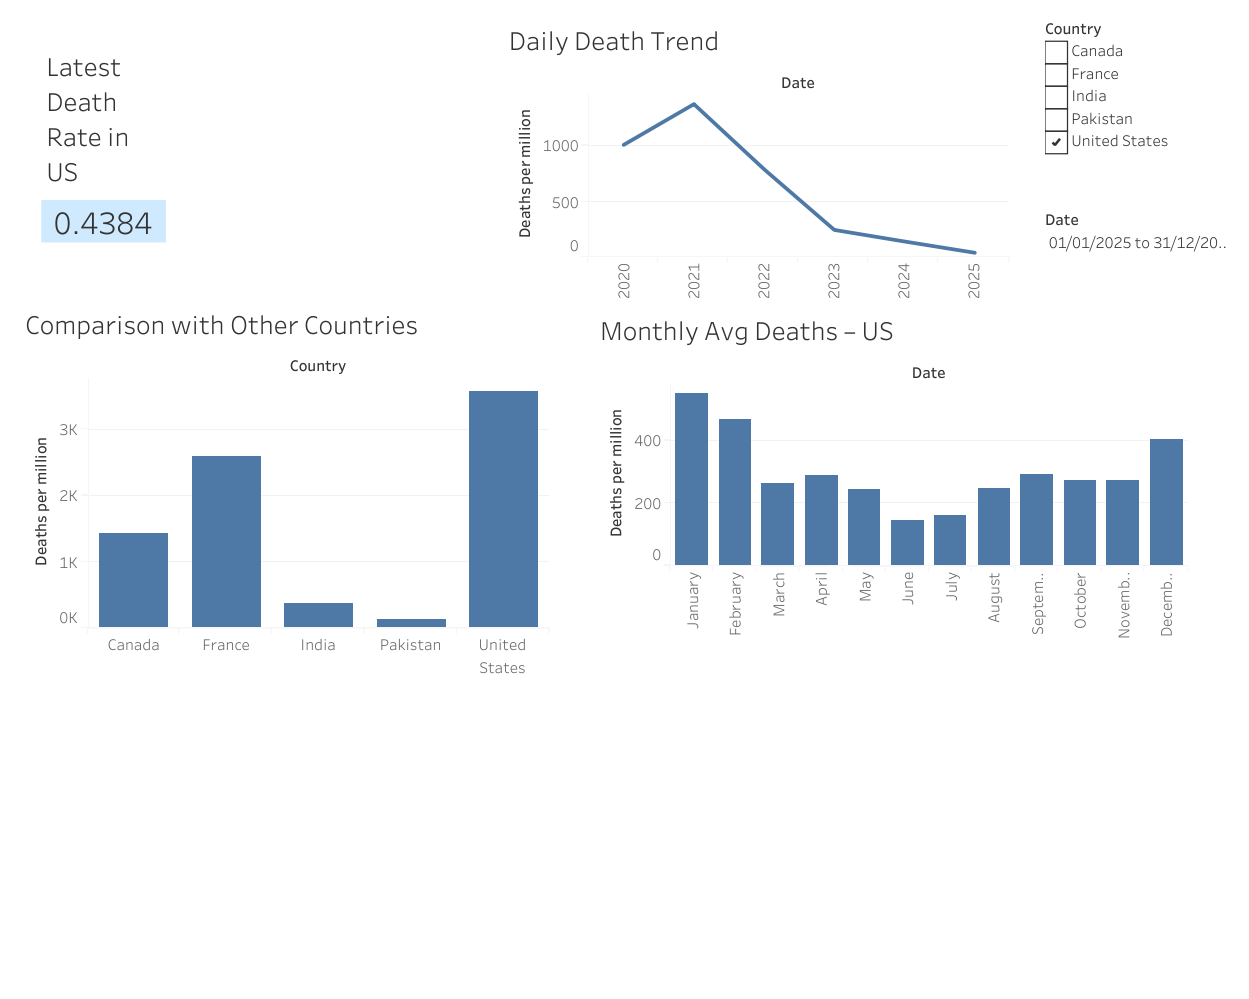

Layout of this report page (visuals, bound fields, positions):
{"tool":"tableau","page":{"name":"COVID-19 Death Trends in the US","canvas":[1000,800],"ordinal":0},"visuals":[{"type":"filter","title":"Latest Death Rate","param":"[federated.1b9xs8u1ol0w6518v92kk12w1o8e].[none:Country:nk]","box":[832,8,160,153]},{"type":"worksheet","title":"Daily Death Trend","mark":"Line","rows":["Deaths per million"],"cols":["Date"],"box":[403,12,404,233]},{"type":"worksheet","title":"Latest Death Rate","mark":"Text","box":[33,33,365,182]},{"type":"filter","title":"Latest Death Rate","param":"[federated.1b9xs8u1ol0w6518v92kk12w1o8e].[none:Date:qk]","box":[832,161,160,55]},{"type":"worksheet","title":"Comparison with Other Countries","mark":"Bar","rows":["Deaths per million"],"cols":["Country"],"box":[16,239,423,303]},{"type":"worksheet","title":"Monthly Avg Deaths – US","mark":"Bar","rows":["Deaths per million"],"cols":["Date"],"box":[476,244,474,268]}]}

Visuals, with their boxes in screenshot pixels (x1, y1, x2, y2), scaled from the page's 1000x800 canvas onto the 1249x999 screenshot:
"Latest Death Rate" filter: (1039, 10, 1239, 201)
"Daily Death Trend" worksheet (Line marks): (503, 15, 1008, 306)
"Latest Death Rate" worksheet (Text marks): (41, 41, 497, 268)
"Latest Death Rate" filter: (1039, 201, 1239, 270)
"Comparison with Other Countries" worksheet (Bar marks): (20, 298, 548, 677)
"Monthly Avg Deaths – US" worksheet (Bar marks): (595, 305, 1187, 639)
